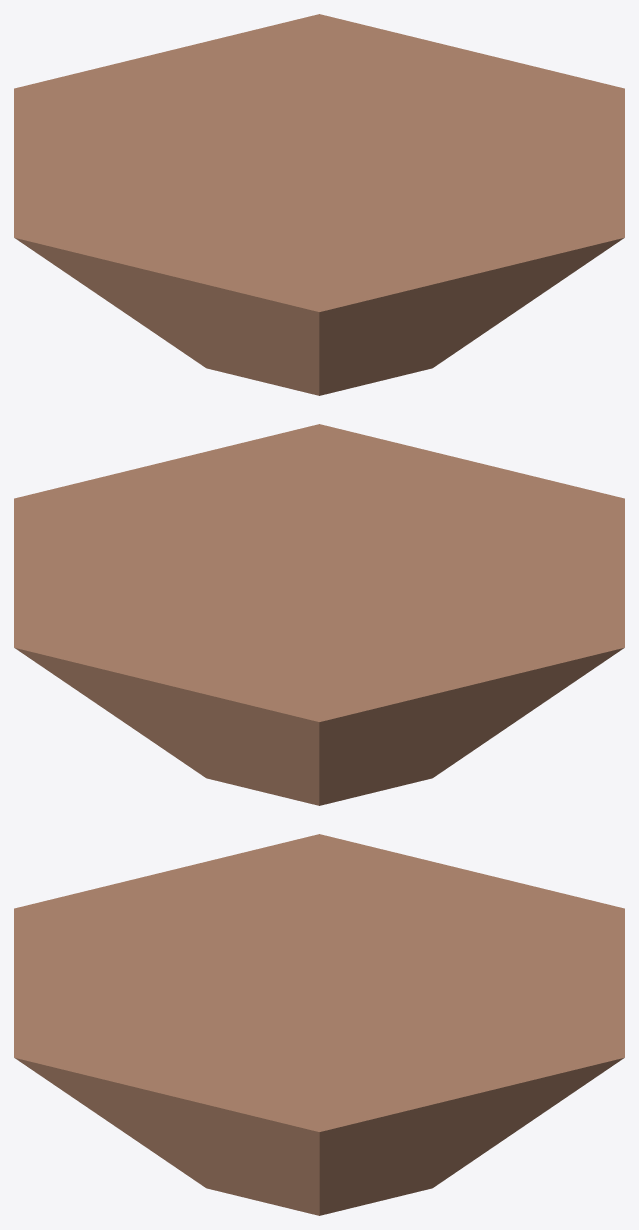
Rendered from pottery_bowl_lod2.glb.
The picture shows the model from 3 angles, top to bottom: view 1: azimuth 30°, elevation 25°; view 2: azimuth 150°, elevation 25°; view 3: azimuth 270°, elevation 25°; orthographic projection.
Parts seen in each view (by area): view 1: pottery_bowl; view 2: pottery_bowl; view 3: pottery_bowl.
Part boxes in pixels (x1,y1,x2,y2): pottery_bowl: (14, 14, 624, 395); pottery_bowl: (14, 424, 624, 805); pottery_bowl: (14, 834, 624, 1215).
Bounding box in the file's own units: 0.27 × 0.075 × 0.2338.
